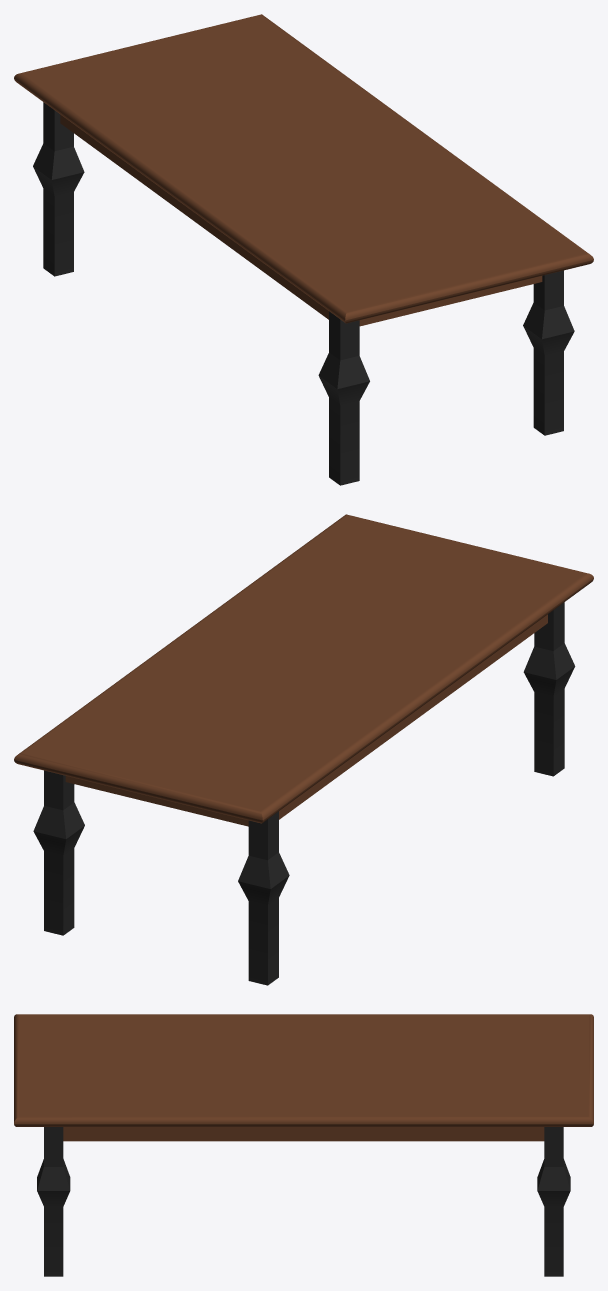
File: GrandeTable_56.fbx
The picture shows the model from 3 angles, top to bottom: view 1: azimuth 30°, elevation 25°; view 2: azimuth 150°, elevation 25°; view 3: azimuth 270°, elevation 25°; orthographic projection. The views are drawn at different scales.
Parts seen in each view (by area): view 1: pCube95, polySurface21, polySurface20, polySurface22; view 2: pCube95, polySurface22, polySurface23, polySurface21; view 3: pCube95, polySurface23, polySurface20.
Boxes of the visible parts, x1,y1,x2,y2 form: pCube95: (14,14,593,326); polySurface21: (318,311,369,485); polySurface20: (523,270,574,435); polySurface22: (33,102,84,276); pCube95: (14,514,593,826); polySurface22: (238,811,289,985); polySurface23: (33,770,84,935); polySurface21: (523,602,575,776); pCube95: (14,1014,593,1141); polySurface23: (537,1127,570,1276); polySurface20: (37,1127,70,1276).
Size of the model in its own units: 56.59 by 40.5 by 130.
